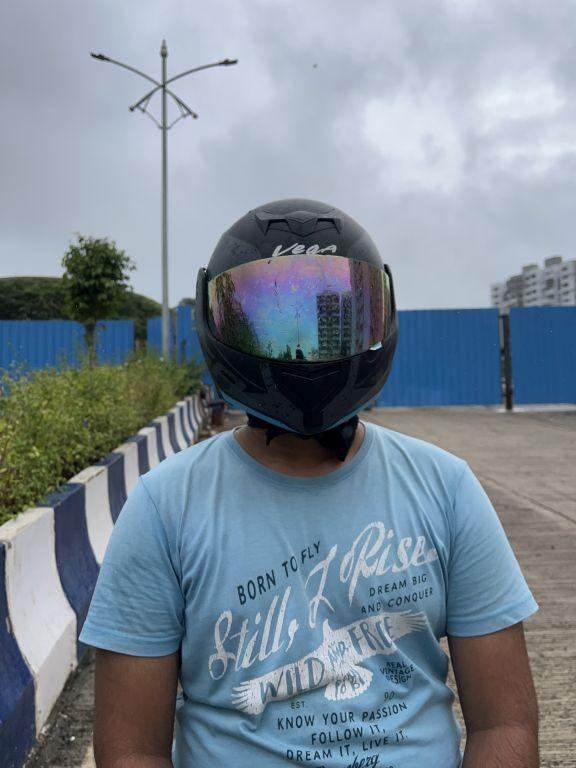helmet: (184, 189, 410, 453)
